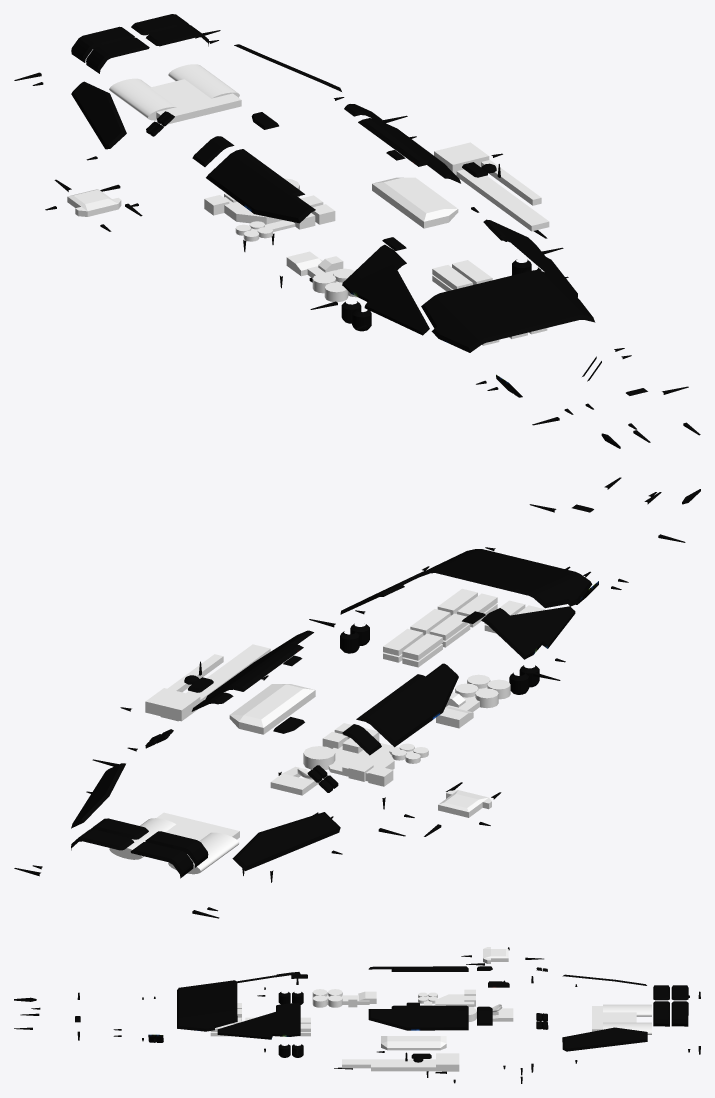
File: hgn_fs_expl_03.glb
3 views of the same model, one above another, from view 1: azimuth 30°, elevation 25°; view 2: azimuth 150°, elevation 25°; view 3: azimuth 270°, elevation 25° (orthographic). The views are drawn at different scales.
Visible parts, largest first — view 1: hgn_fs_explorer_01_t3_LOD0, StandardEngine_1_3 (3), StandardScanner_1_1, Factory_1_3 (1)!!!!!!!!, FleetReadyHangar_1_2, Refinery_1_2 (1), Storage_1_1 (1), Bridge_1_1 (1); view 2: hgn_fs_explorer_01_t3_LOD0, Factory_1_3 (1)!!!!!!!!, StandardScanner_1_1, StandardEngine_1_3 (3), FleetReadyHangar_1_2, Refinery_1_2 (1), Storage_1_1 (1), Storage_1_1 (5), Storage_1_1 (6), Bridge_1_1 (1), Market_1_1; view 3: hgn_fs_explorer_01_t3_LOD0, StandardScanner_1_1, StandardEngine_1_3 (3), Refinery_1_2 (1), FleetReadyHangar_1_2, Factory_1_3 (1)!!!!!!!!, Bridge_1_1 (1), Market_1_1.
Part boxes in pixels (bbox=[...]): hgn_fs_explorer_01_t3_LOD0: bbox=[14, 14, 700, 448]; StandardEngine_1_3 (3): bbox=[109, 64, 241, 124]; StandardScanner_1_1: bbox=[434, 142, 549, 231]; Factory_1_3 (1)!!!!!!!!: bbox=[204, 178, 335, 241]; FleetReadyHangar_1_2: bbox=[372, 177, 458, 228]; Refinery_1_2 (1): bbox=[286, 251, 357, 302]; Storage_1_1 (1): bbox=[432, 260, 492, 291]; Bridge_1_1 (1): bbox=[67, 189, 121, 216]; hgn_fs_explorer_01_t3_LOD0: bbox=[14, 477, 700, 918]; Factory_1_3 (1)!!!!!!!!: bbox=[303, 723, 428, 786]; StandardScanner_1_1: bbox=[145, 644, 270, 721]; StandardEngine_1_3 (3): bbox=[109, 812, 239, 874]; FleetReadyHangar_1_2: bbox=[229, 684, 315, 734]; Refinery_1_2 (1): bbox=[436, 674, 510, 728]; Storage_1_1 (1): bbox=[383, 628, 442, 667]; Storage_1_1 (5): bbox=[410, 609, 470, 647]; Storage_1_1 (6): bbox=[437, 588, 497, 627]; Bridge_1_1 (1): bbox=[438, 790, 491, 817]; Market_1_1: bbox=[270, 766, 326, 795]; hgn_fs_explorer_01_t3_LOD0: bbox=[14, 947, 700, 1083]; StandardScanner_1_1: bbox=[342, 1053, 459, 1071]; StandardEngine_1_3 (3): bbox=[592, 1004, 651, 1034]; Refinery_1_2 (1): bbox=[312, 989, 376, 1007]; FleetReadyHangar_1_2: bbox=[381, 1036, 446, 1050]; Factory_1_3 (1)!!!!!!!!: bbox=[418, 989, 476, 1021]; Bridge_1_1 (1): bbox=[483, 947, 508, 963]; Market_1_1: bbox=[492, 1004, 513, 1021].
Size of what is drawn, in the model's own units: 7.39 by 2.59 by 16.84.
Materials: 4 (1 with a texture image).
